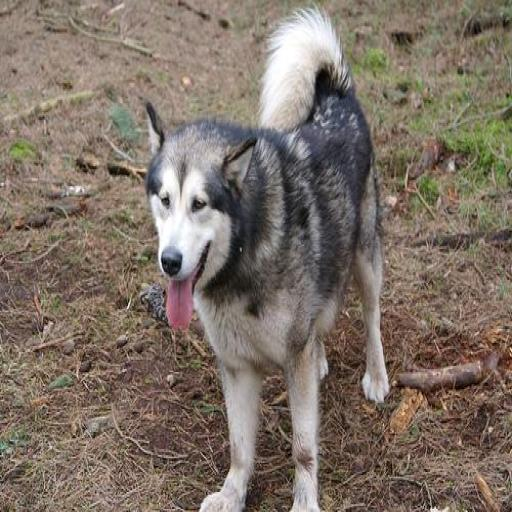dog_face: (138, 95, 263, 334)
